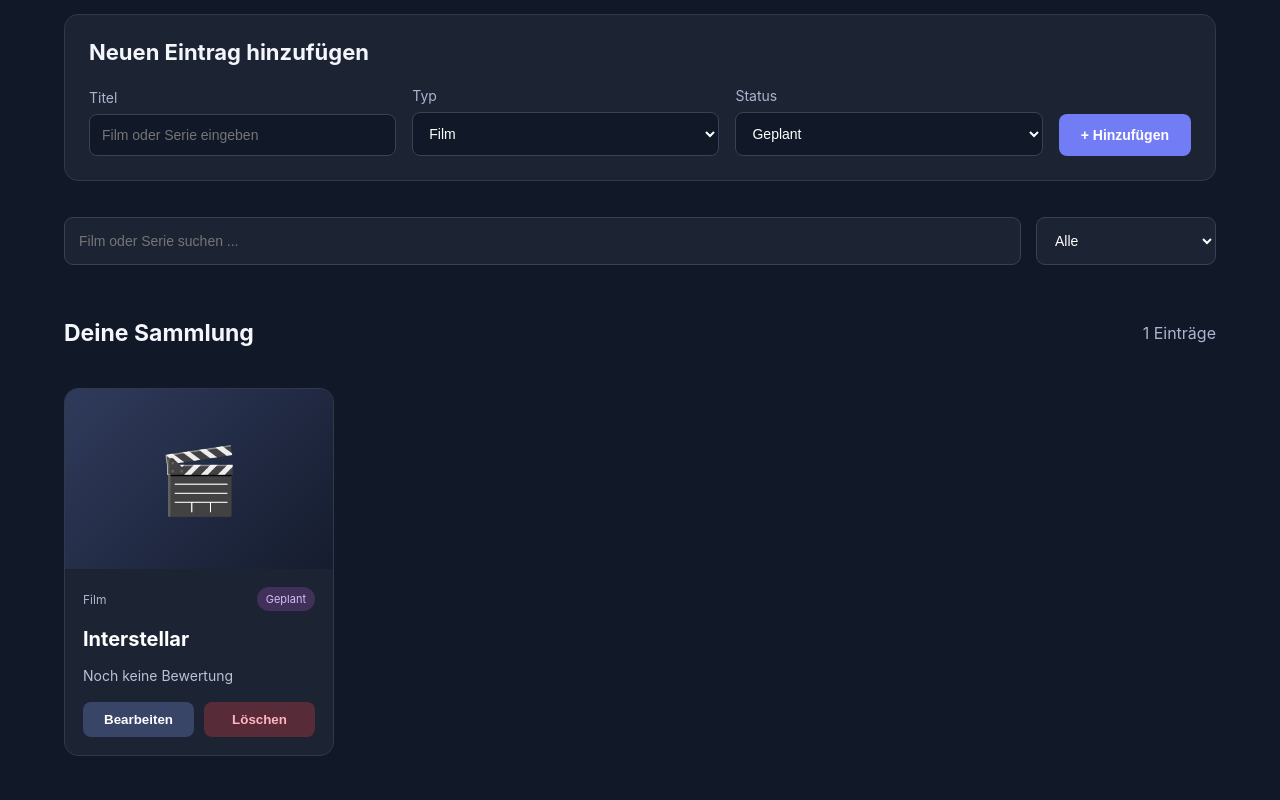
Test: MyWatchlist – Frontend › löscht einen Eintrag per DELETE erst nach erfolgreicher Serverantwort
(page scrolled)
Click the button with class "delete-button".
click(260, 720)  # box 204,702 -> 315,737
(page scrolled)
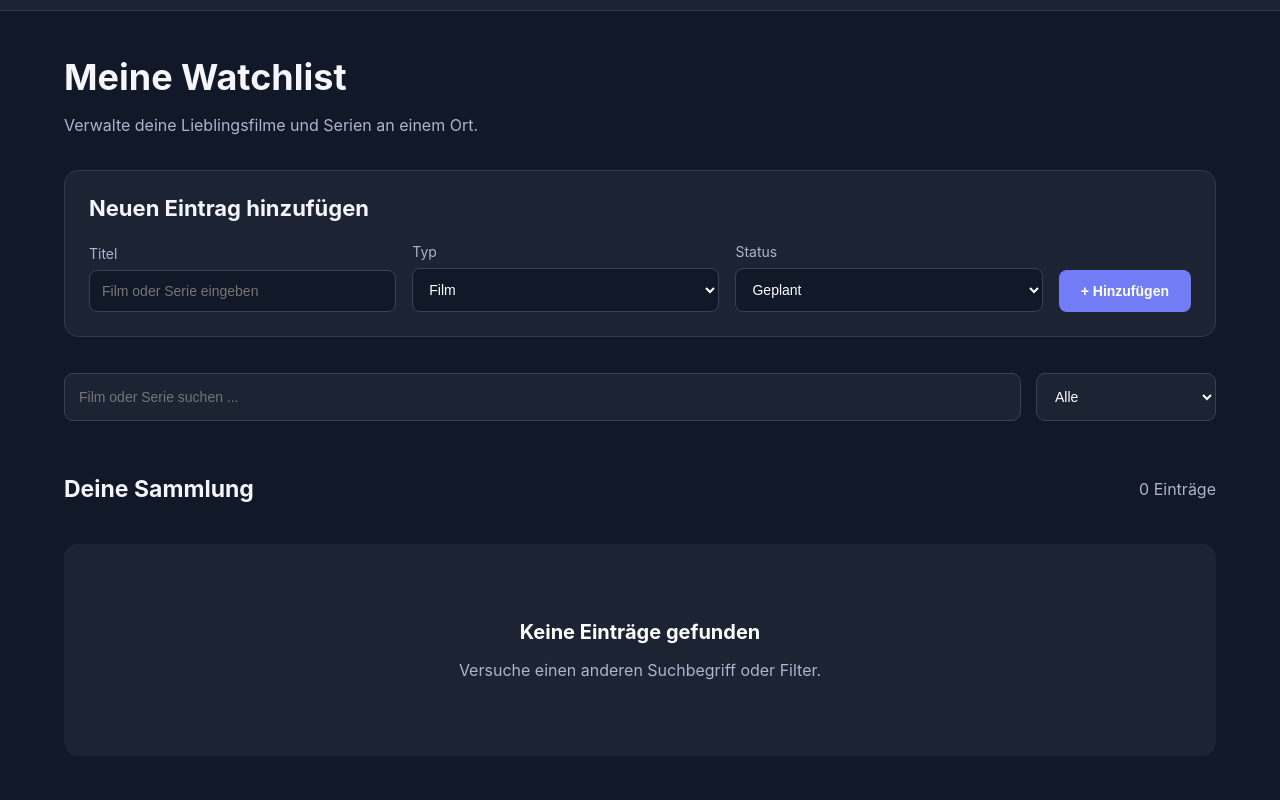
Result: no elements with class "watchlist-card" are shown
Result: the text "Keine Einträge gefunden" is shown at 520,620 -> 760,644
